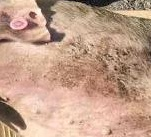text: (4, 9, 37, 39)
